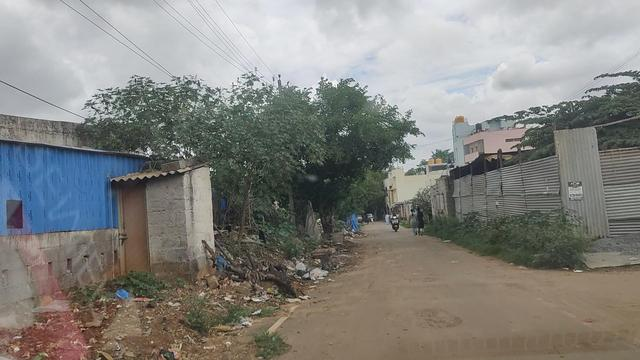RoadDamages: (413, 300, 462, 341)
